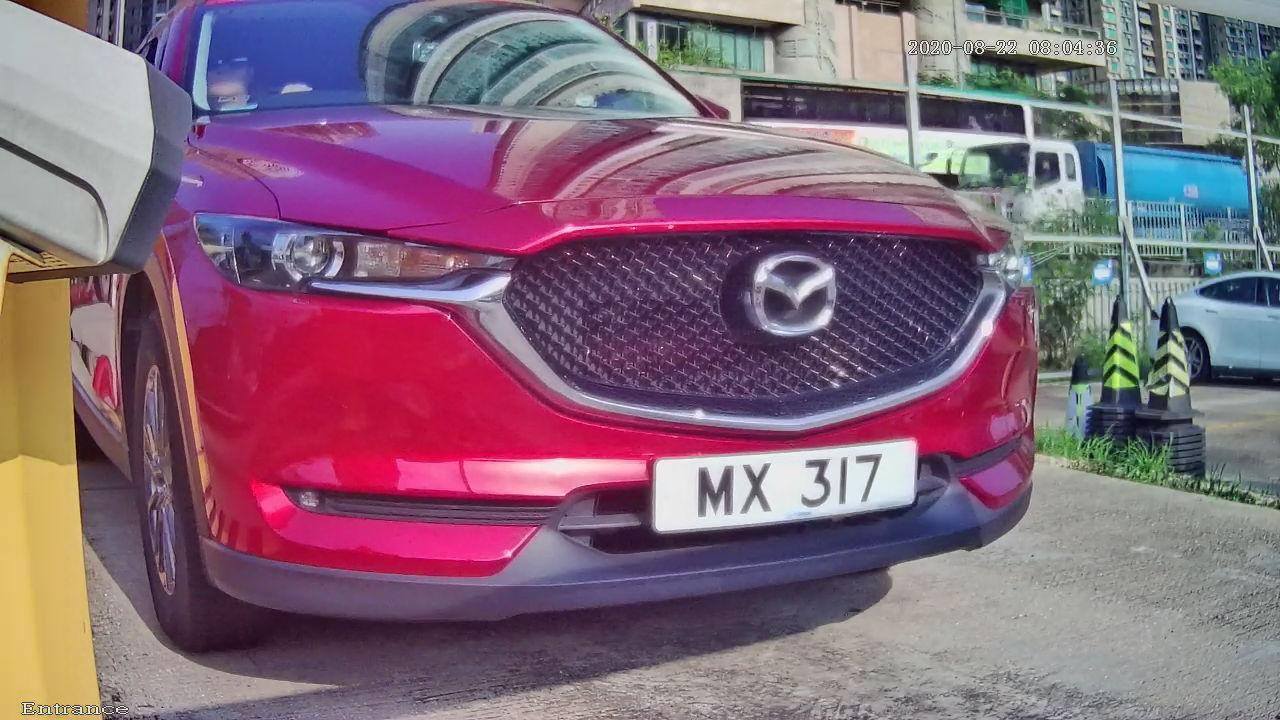Car: (12, 17, 1126, 685)
License Plate: (591, 400, 974, 542)
